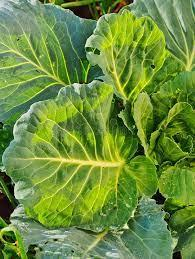Bok-Choy-Diseased: (81, 9, 165, 99)
